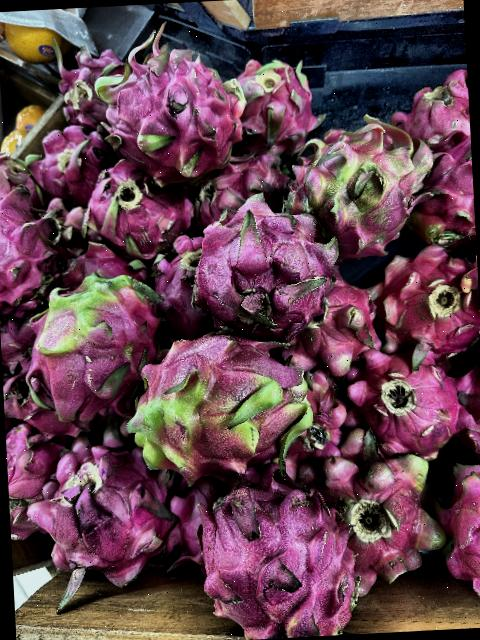buah-naga-belum-matang: (125, 328, 324, 474), (270, 112, 436, 258), (306, 435, 448, 589), (35, 270, 163, 416)
buah-naga-matang: (193, 465, 369, 640), (28, 440, 176, 598), (90, 40, 242, 176), (186, 210, 344, 333), (340, 337, 476, 460), (374, 247, 480, 367), (82, 158, 190, 251), (221, 54, 320, 154), (0, 164, 63, 313), (409, 125, 476, 248), (298, 280, 390, 369), (6, 421, 68, 542), (50, 38, 128, 128), (192, 151, 298, 216), (27, 122, 114, 196), (144, 239, 214, 325), (392, 71, 470, 142)
